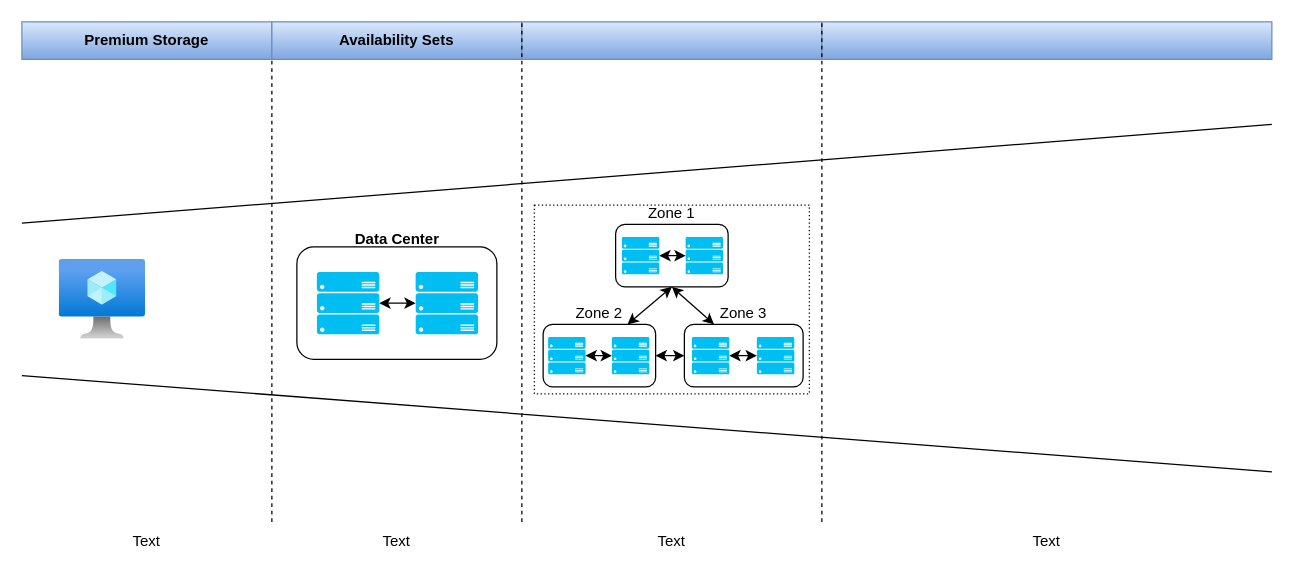
This 1295x583 diagram has some shape labels left out. Each missing label, with the centre of its shape:
"Availability Zones" belongs at point (671, 40).
"Azure Site Recovery / Region Pairs" belongs at point (1046, 40).
"Single VM" belongs at point (102, 299).
